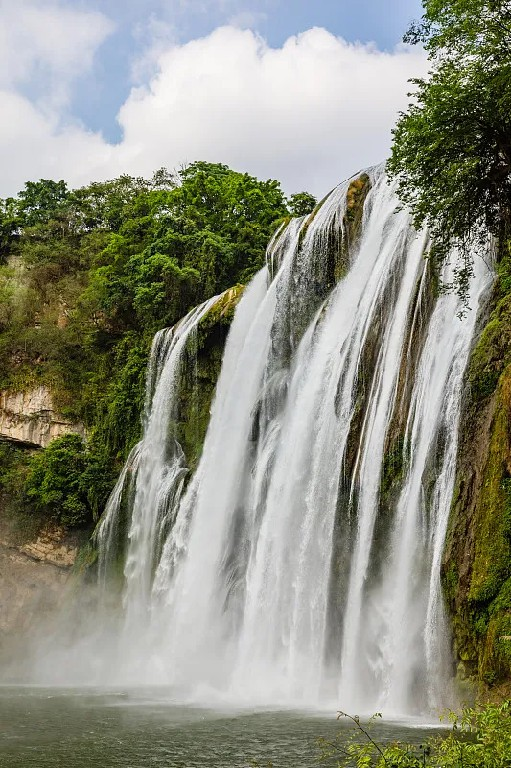Huangguoshu: (101, 161, 492, 724)
